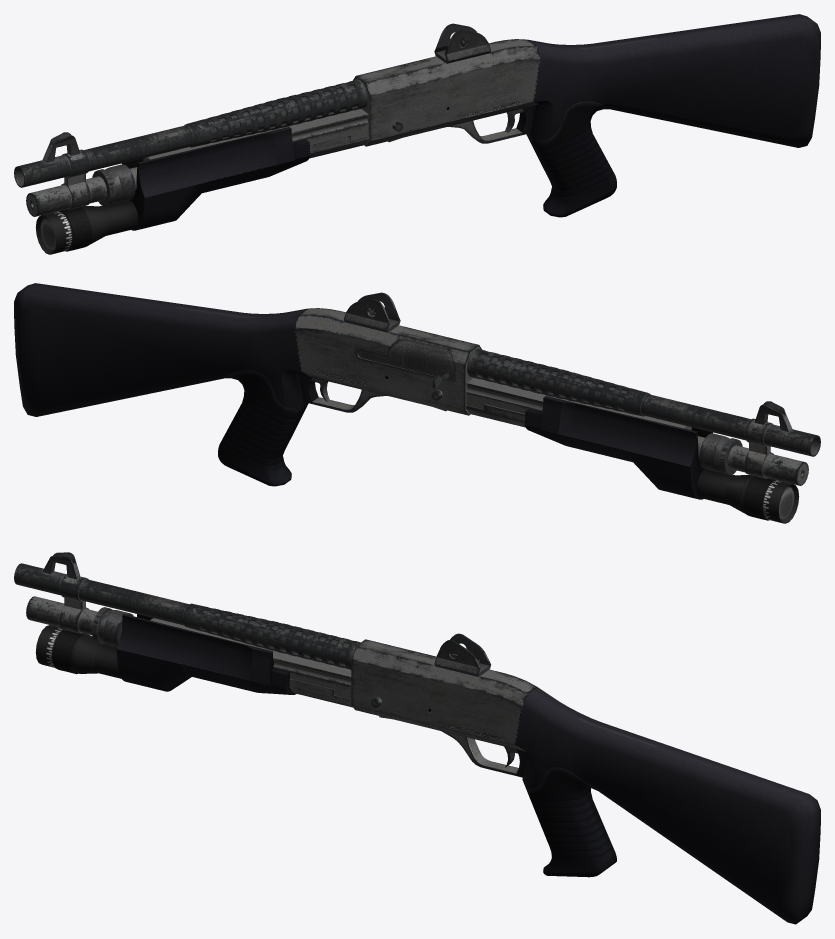
File: leone_12_gauge_super.glb
The picture shows the model from 3 angles, top to bottom: view 1: azimuth 30°, elevation 25°; view 2: azimuth 150°, elevation 25°; view 3: azimuth 330°, elevation 25°; orthographic projection.
Parts seen in each view (by area): view 1: M3_low_Cube; view 2: M3_low_Cube; view 3: M3_low_Cube.
Boxes of the visible parts, box(x1,y1,x2,y2) form: M3_low_Cube: box(14, 14, 820, 254); M3_low_Cube: box(14, 283, 820, 523); M3_low_Cube: box(14, 552, 820, 924).
Size of the model in its own units: 0.7514 by 0.188 by 0.0583.
Materials: 1 (1 with a texture image).
